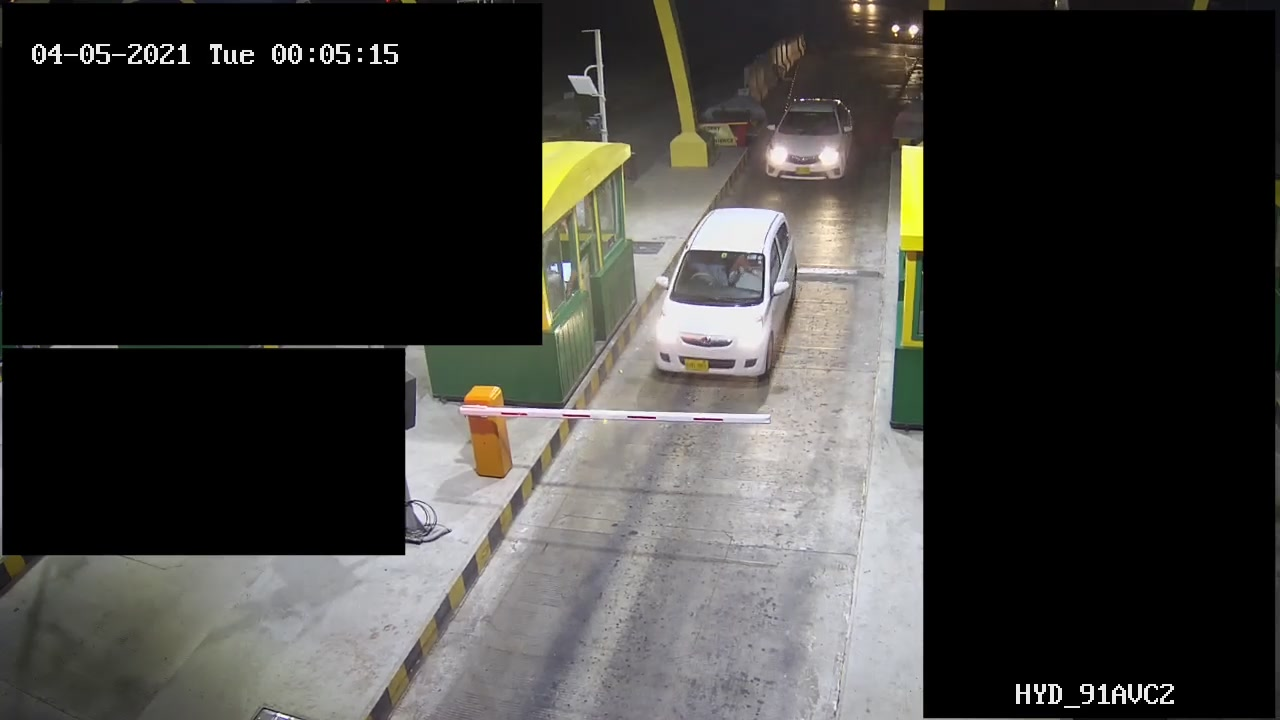F1: (650, 208, 799, 379), (759, 98, 858, 190)
